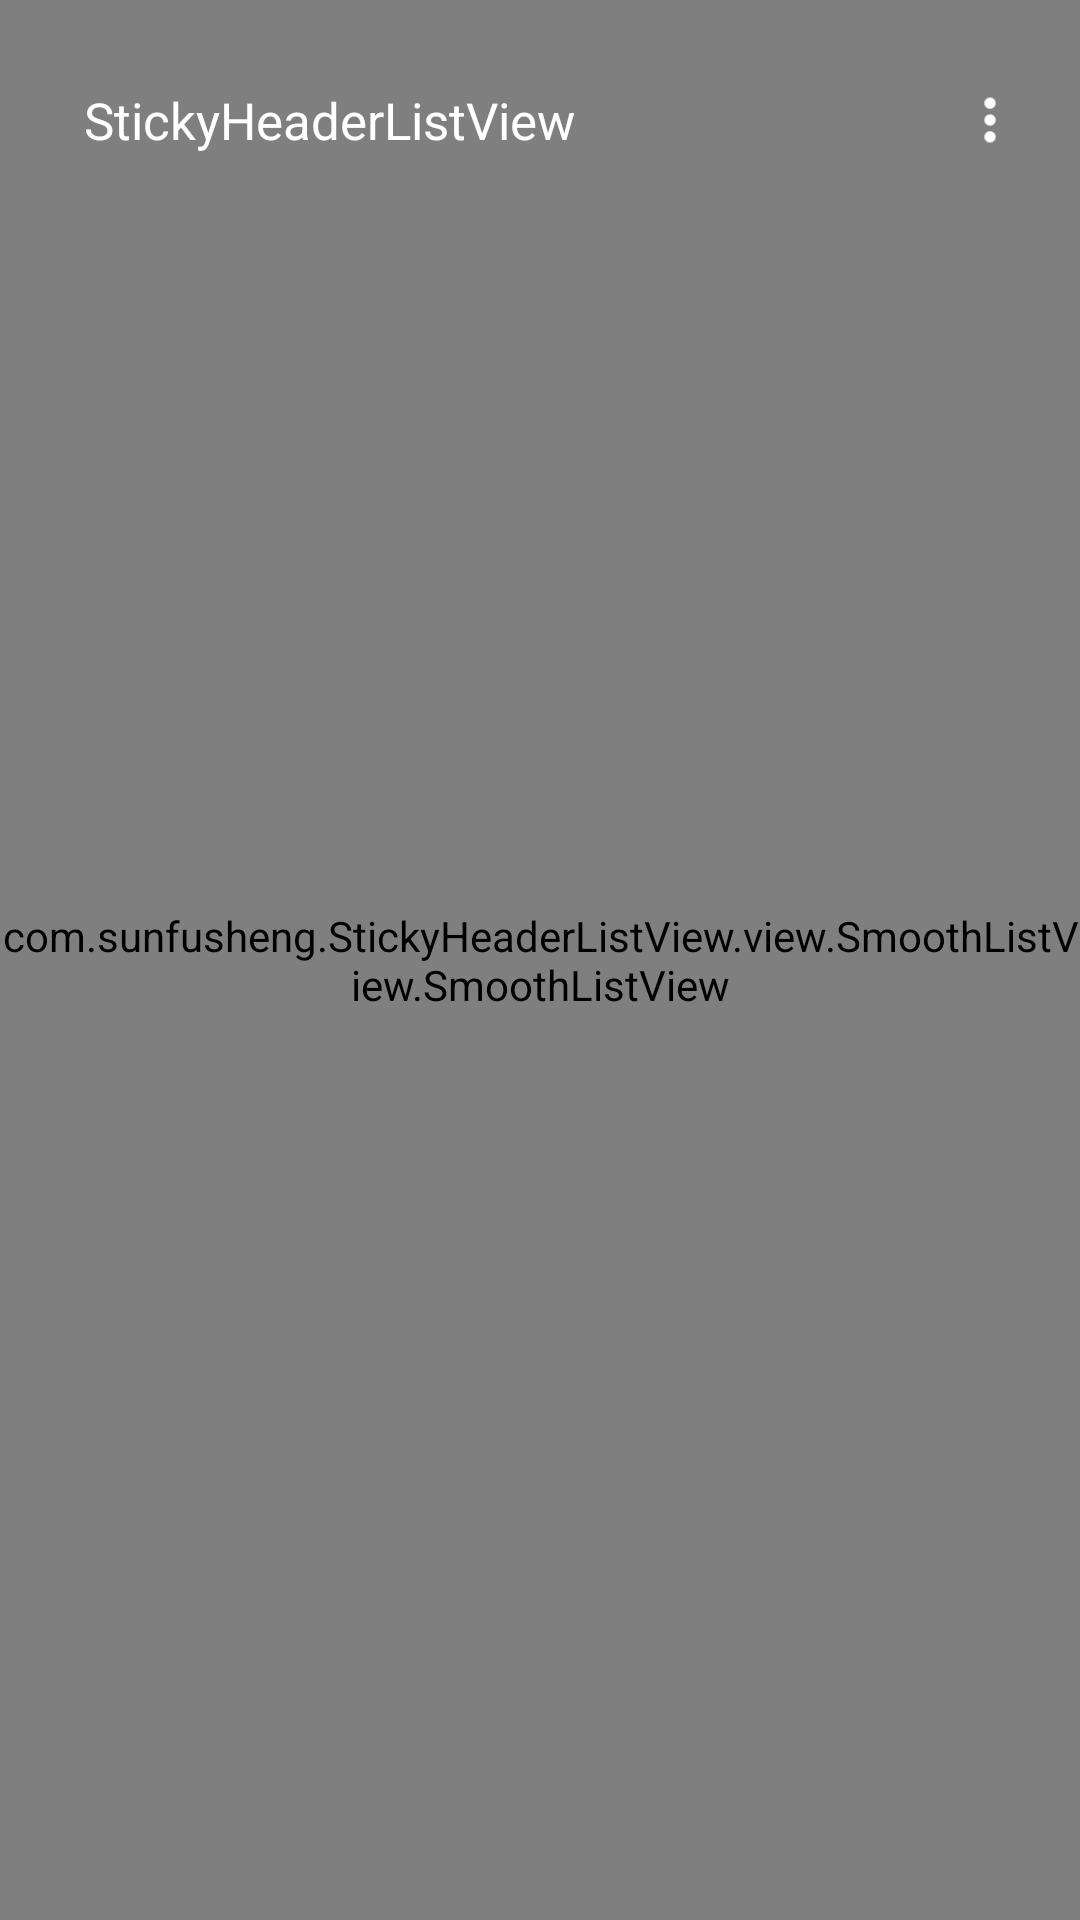

Icons on this 1080×1920 Android screen, each with its box as {"left": x1, "top": y1, "right": x2, "bottom": y2}:
more: {"left": 984, "top": 97, "right": 996, "bottom": 143}
